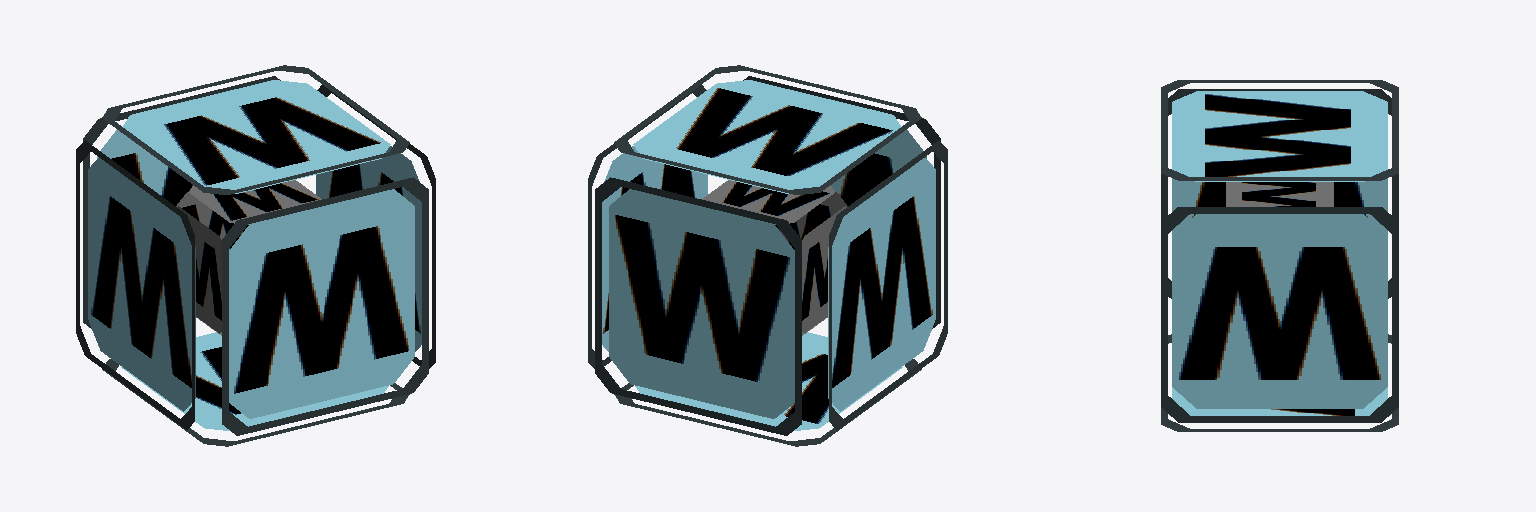
The picture shows the model from 3 angles: view 1: azimuth 30°, elevation 25°; view 2: azimuth 150°, elevation 25°; view 3: azimuth 270°, elevation 25°; orthographic projection.
Parts seen in each view (by area): view 1: fant_wasd_converter_on; view 2: fant_wasd_converter_on; view 3: fant_wasd_converter_on.
Boxes of the visible parts, x1,y1,x2,y2 form: fant_wasd_converter_on: [76, 65, 435, 446]; fant_wasd_converter_on: [588, 65, 947, 446]; fant_wasd_converter_on: [1161, 80, 1398, 431].
Size of the model in its own units: 1 by 1 by 1.
3 materials, 3 textured.